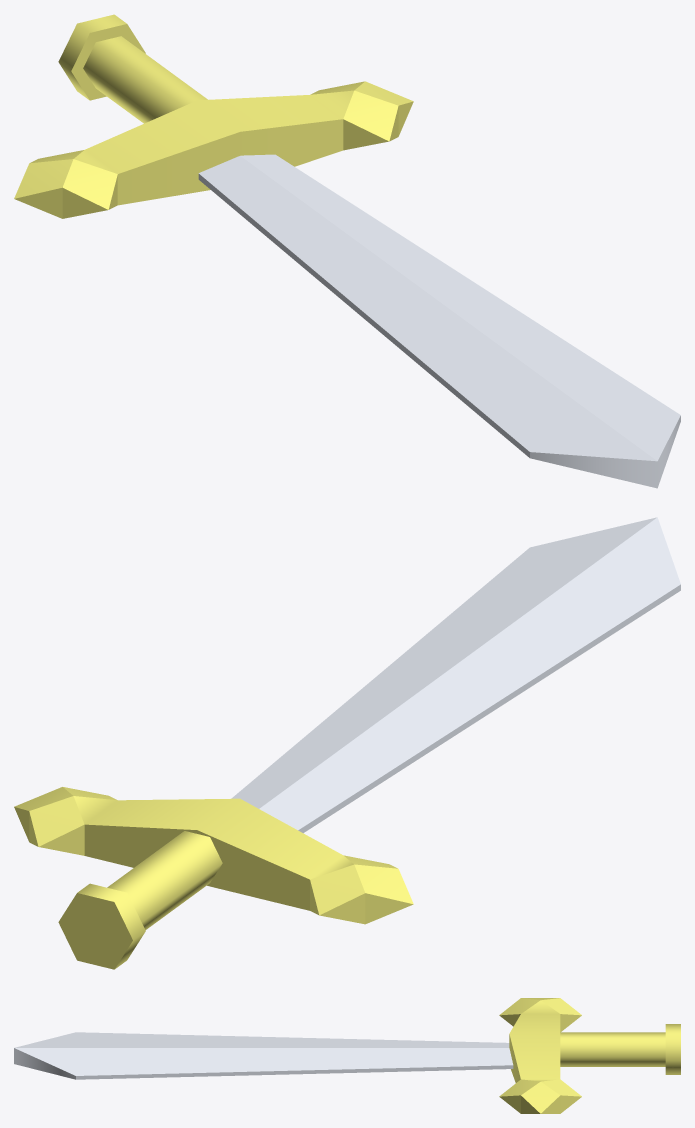
File: Sword.fbx
The picture shows the model from 3 angles, top to bottom: view 1: azimuth 30°, elevation 25°; view 2: azimuth 150°, elevation 25°; view 3: azimuth 270°, elevation 25°; orthographic projection. The views are drawn at different scales.
Parts seen in each view (by area): view 1: Sword; view 2: Sword; view 3: Sword.
Part boxes in pixels (x1=…): Sword: x1=14, y1=14, x2=680, y2=488; Sword: x1=14, y1=517, x2=680, y2=969; Sword: x1=14, y1=998, x2=680, y2=1113.
Size of the model in its own units: 0.4425 by 0.074 by 1.08.
